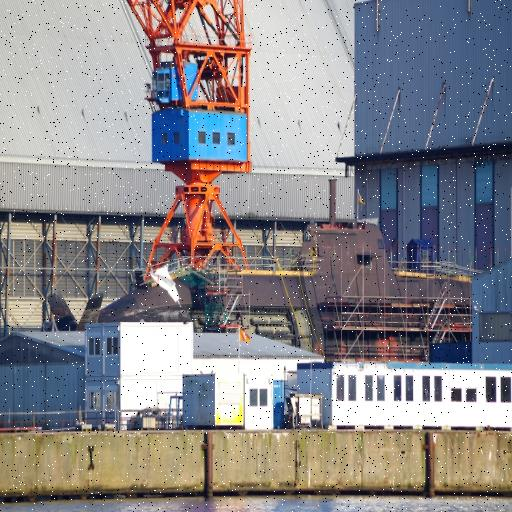submarine: (68, 212, 477, 334)
